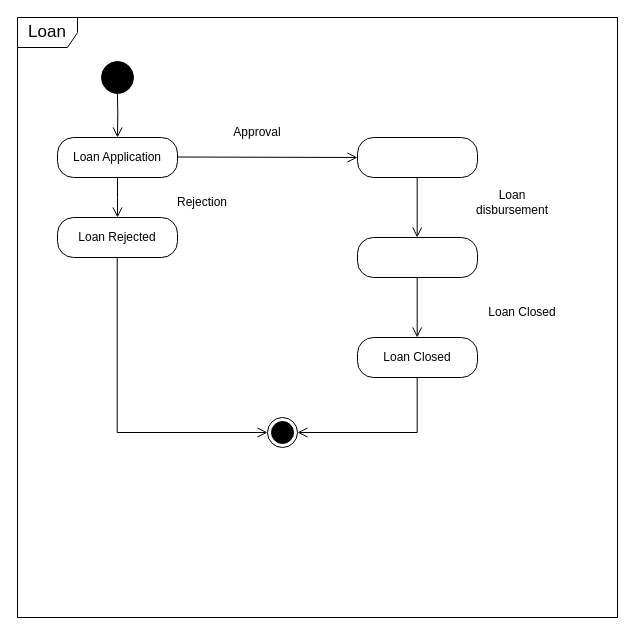
Image size: 635x635. Some labels were removed from this diagram. The centre of each missing label's shape, as x and y in pixels:
"Loan Approved" belongs at point 417,157.
"Repayment" belongs at point 417,257.
